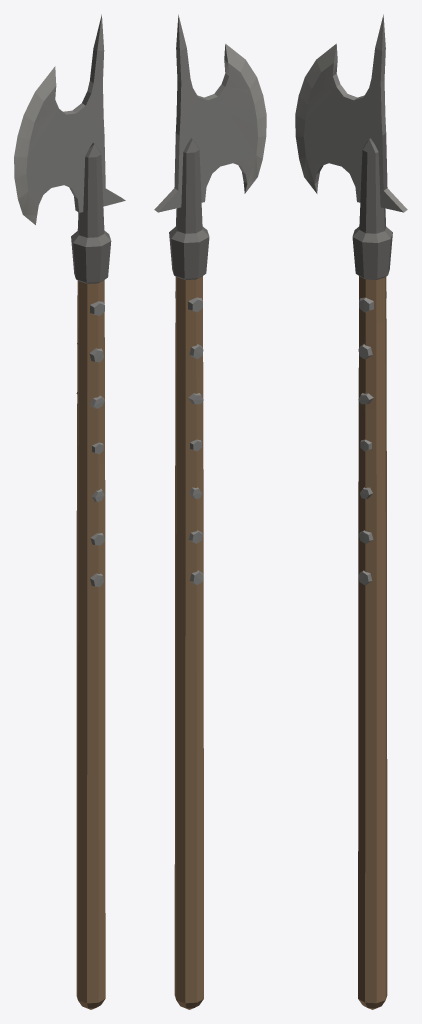
The model's file is SM_pwe_medieval_halberd_09.fbx.
The picture shows the model from 3 angles, left to right: view 1: azimuth 30°, elevation 25°; view 2: azimuth 210°, elevation 25°; view 3: azimuth 330°, elevation 25°; orthographic projection.
Visible parts, largest first — view 1: SM_pwe_medieval_halberd_09; view 2: SM_pwe_medieval_halberd_09; view 3: SM_pwe_medieval_halberd_09.
Part boxes in pixels (bbox=[...]): SM_pwe_medieval_halberd_09: bbox=[14, 14, 125, 1009]; SM_pwe_medieval_halberd_09: bbox=[154, 14, 266, 1009]; SM_pwe_medieval_halberd_09: bbox=[295, 14, 407, 1009].
Size of the model in its own units: 19.03 by 164 by 6.24.
